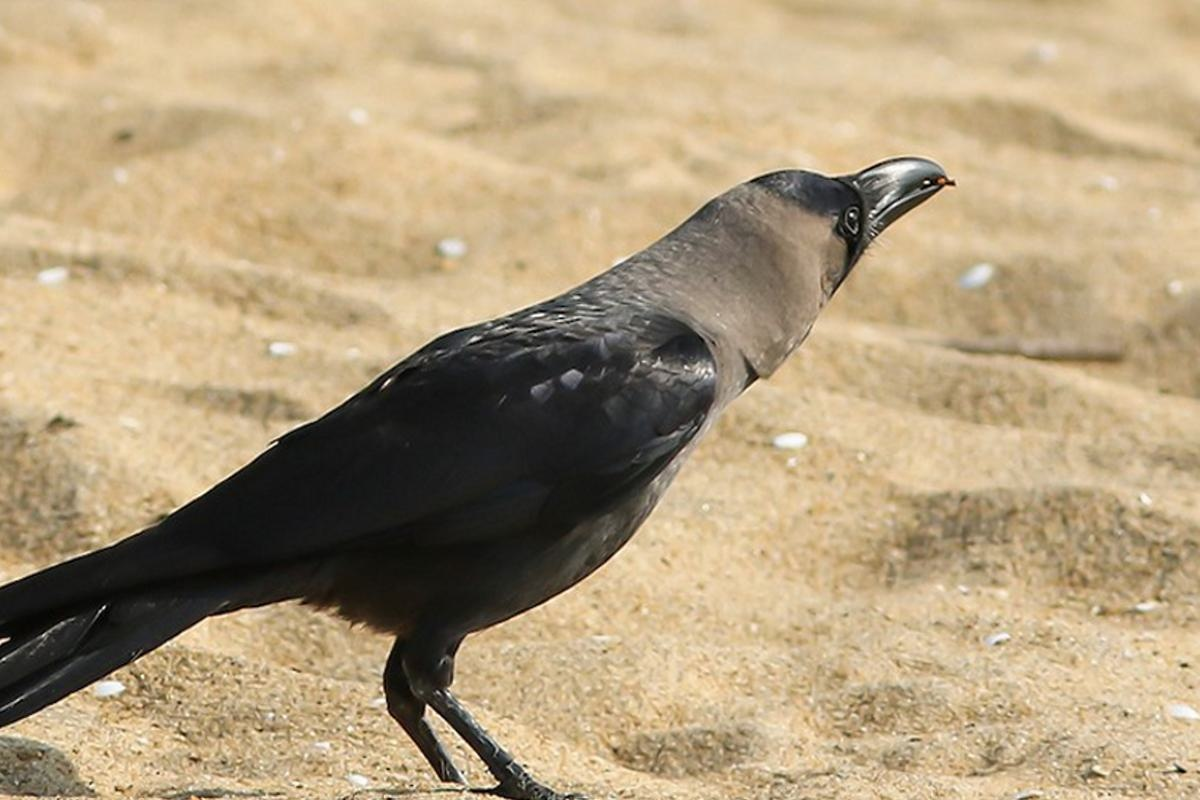crow: (2, 146, 985, 800)
